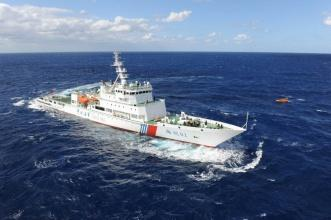warship: (29, 49, 249, 151)
